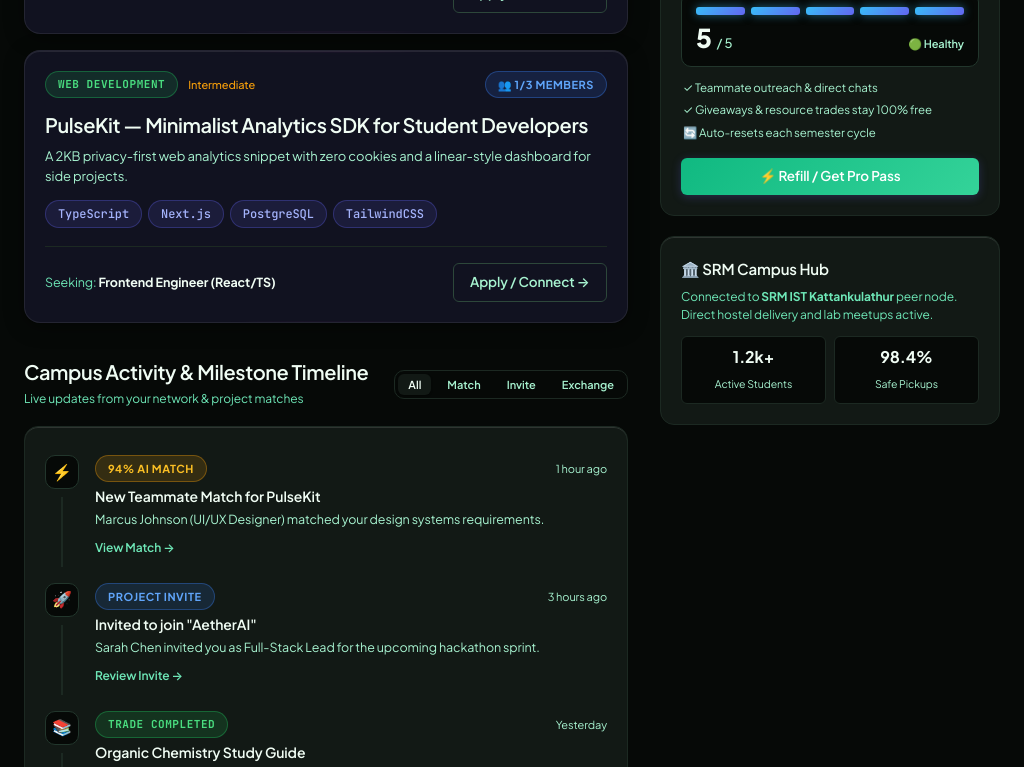
Test: Dashboard Page Integration Suite › filters campus activity timeline events by timeline category buttons
(page scrolled)
Expected: the heading "Campus Activity & Milestone Timeline" is shown, [24, 359, 368, 385]
Click the button "Invite".
click(521, 385)  # box [497, 374, 546, 395]
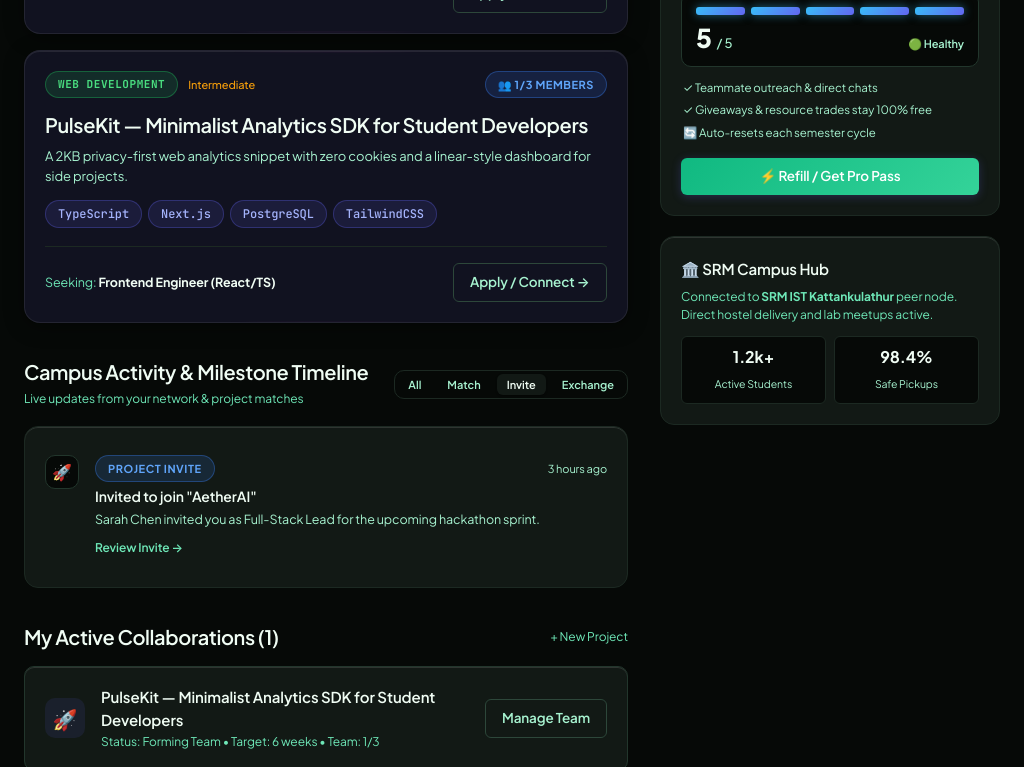
Expected: the heading "Invited to join \"AetherAI\"" is shown, [95, 487, 256, 505]
Now the heading "Organic Chemistry Study Guide" is gone
